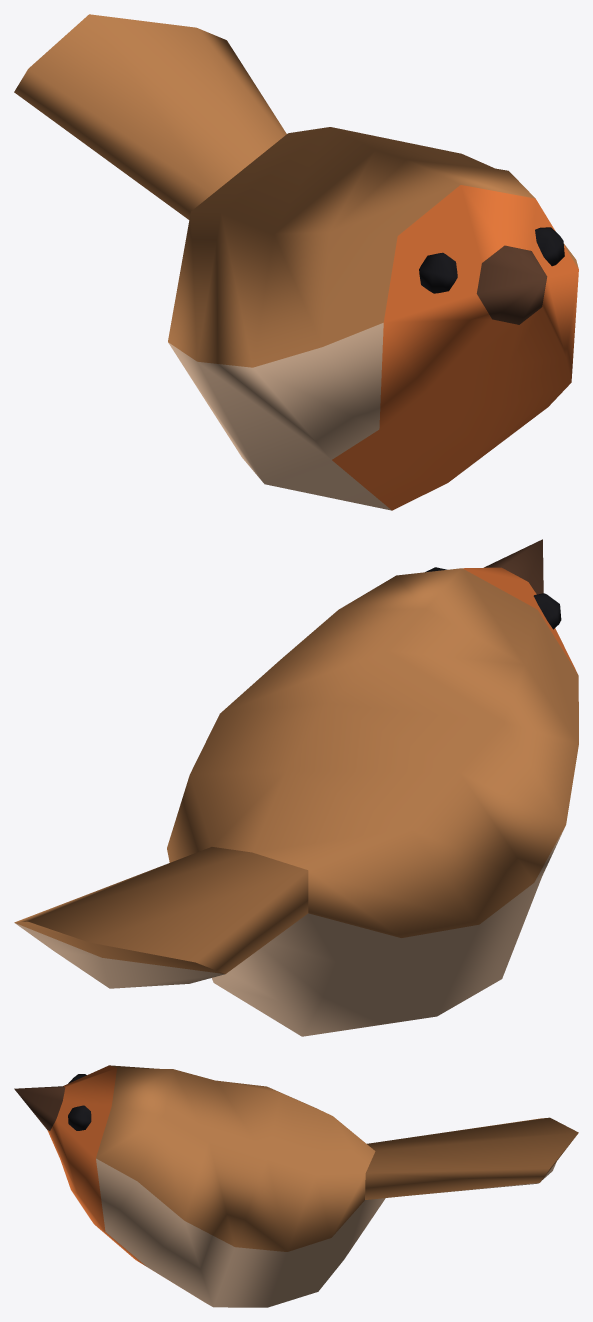
File: Bird_3.glb
The picture shows the model from 3 angles, top to bottom: view 1: azimuth 30°, elevation 25°; view 2: azimuth 150°, elevation 25°; view 3: azimuth 270°, elevation 25°; orthographic projection. The views are drawn at different scales.
Parts seen in each view (by area): view 1: Bird_3; view 2: Bird_3; view 3: Bird_3.
Part boxes in pixels (bbox=[...]): Bird_3: bbox=[14, 14, 578, 510]; Bird_3: bbox=[14, 539, 578, 1036]; Bird_3: bbox=[14, 1065, 578, 1307].
Size of the model in its own units: 0.1891 by 0.2017 by 0.4398.
1 material, 1 textured.
